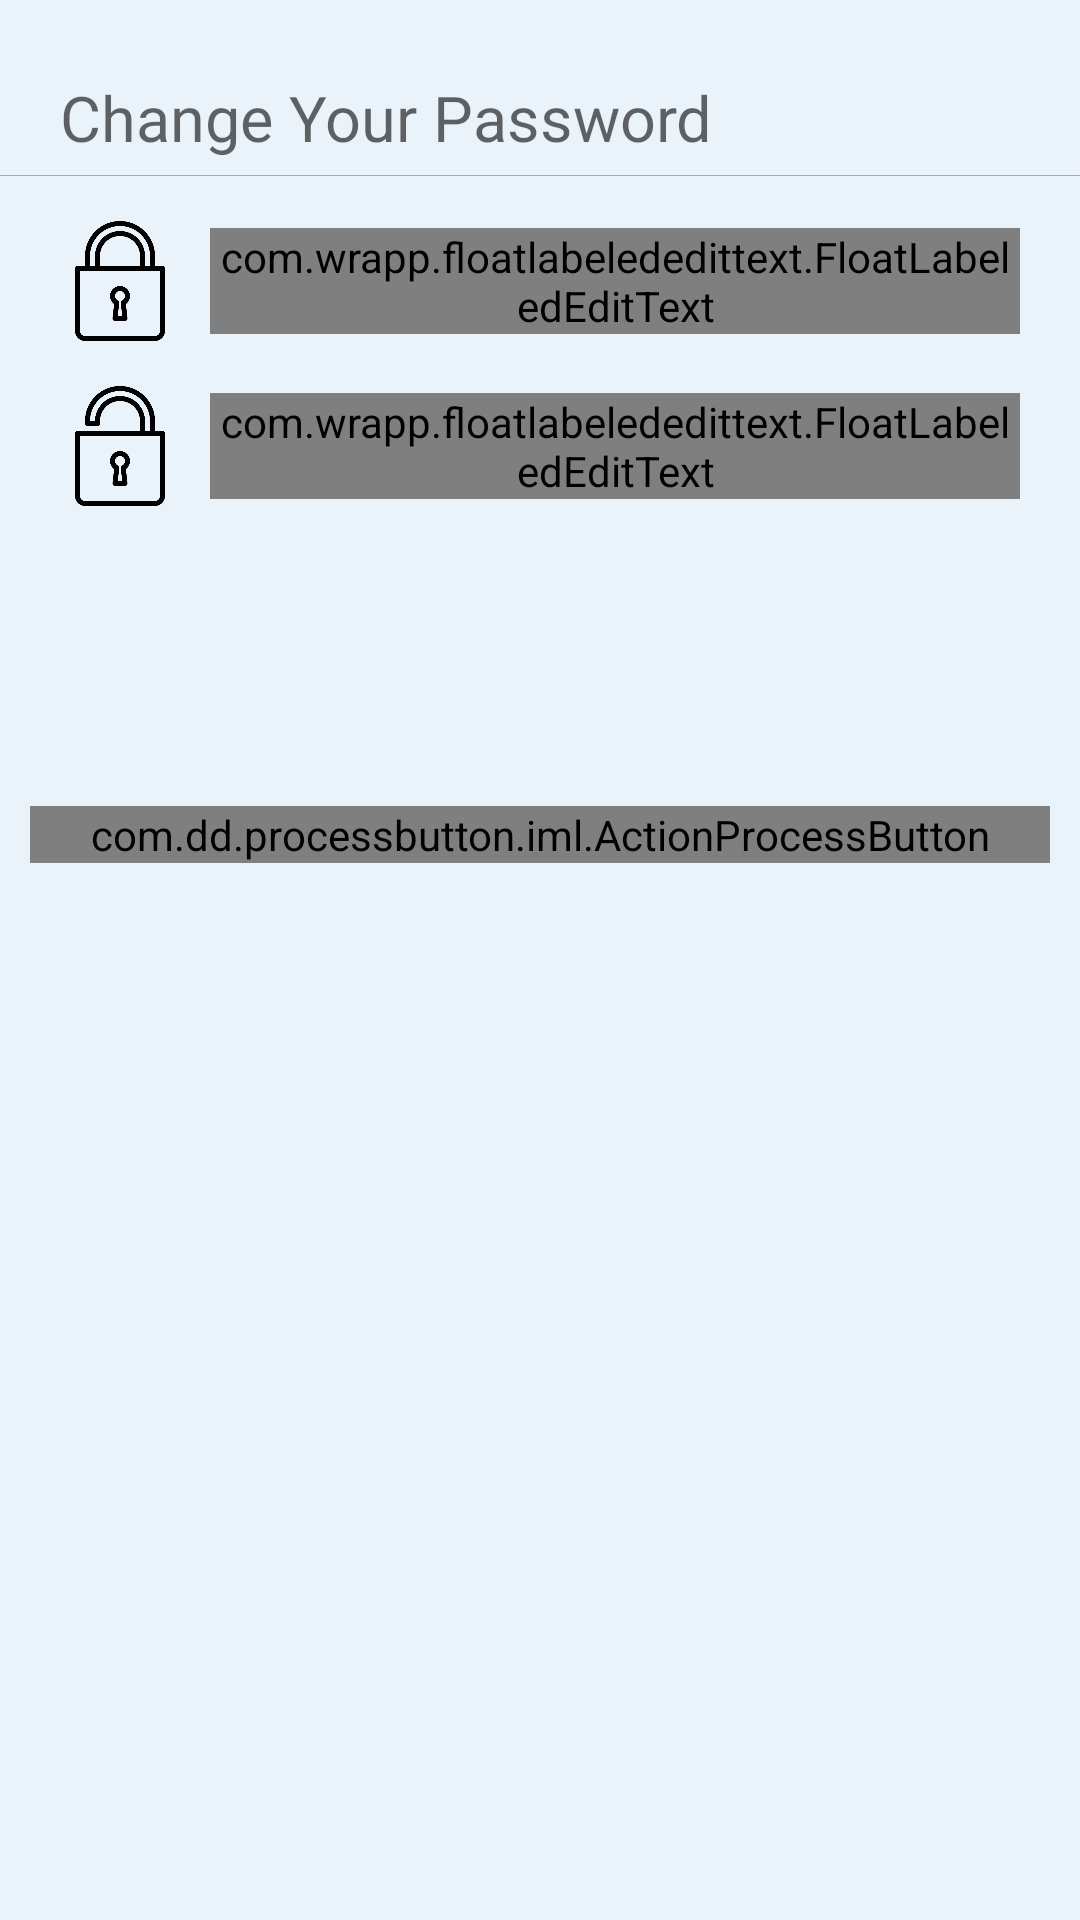

Named icons in this screenshot (1080x1920) and their centers, (x=x, y=y):
confirm password: (x=120, y=446)
